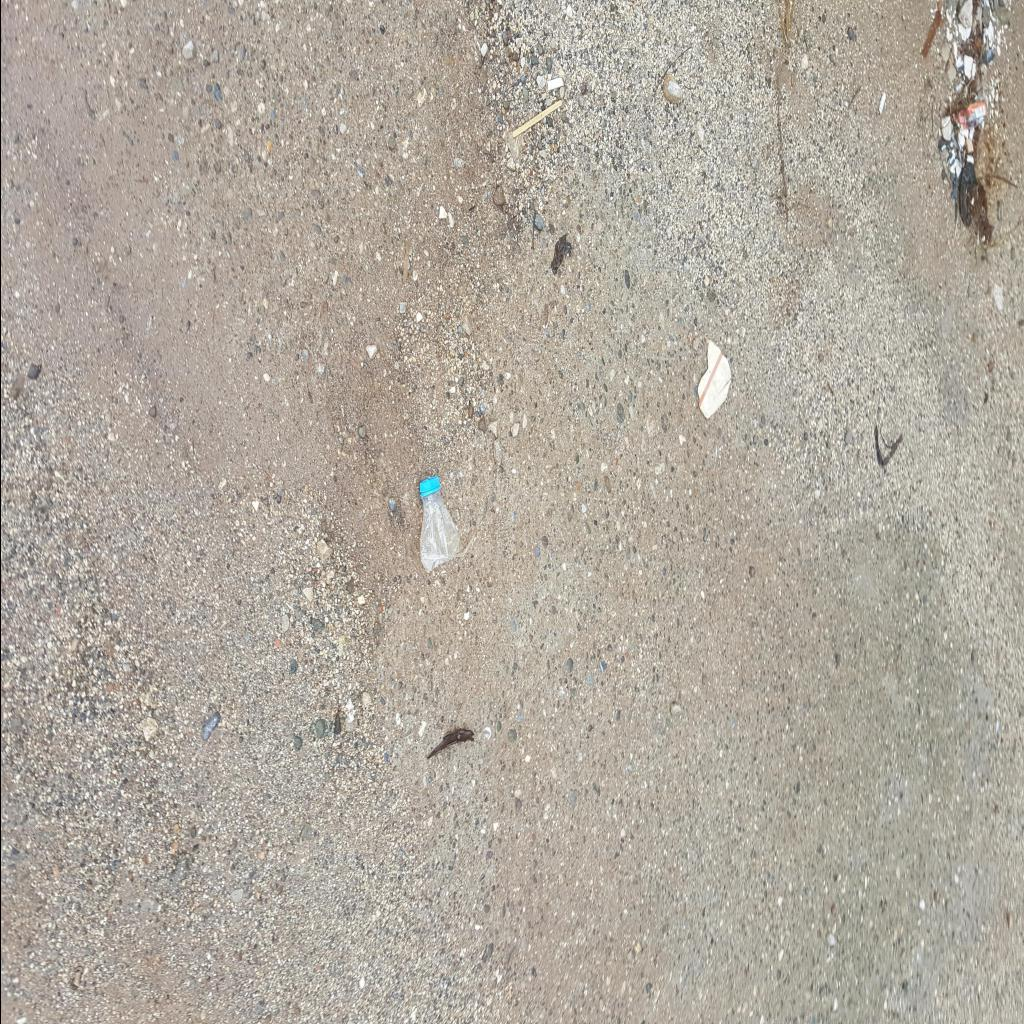Cigarette: (877, 92, 885, 112)
Clear plastic bottle: (419, 475, 459, 571)
Other plastic: (950, 102, 986, 130)
Other plastic wrapper: (696, 339, 730, 418)
Plastic bottle cap: (419, 476, 439, 492)
Unlabeled litter: (959, 162, 975, 228)
